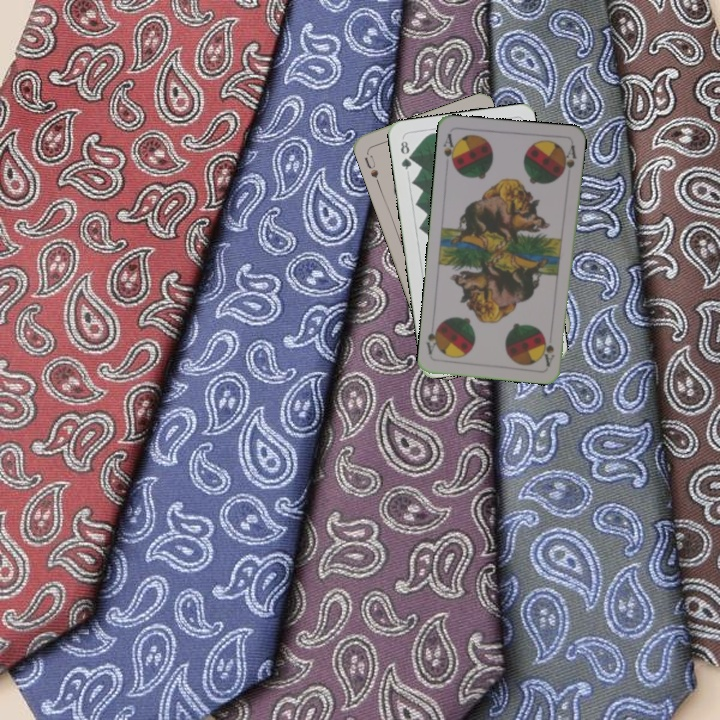G8: (396, 137, 415, 172)
SA: (439, 129, 460, 171), (542, 341, 557, 368)
SU: (360, 148, 382, 188)
